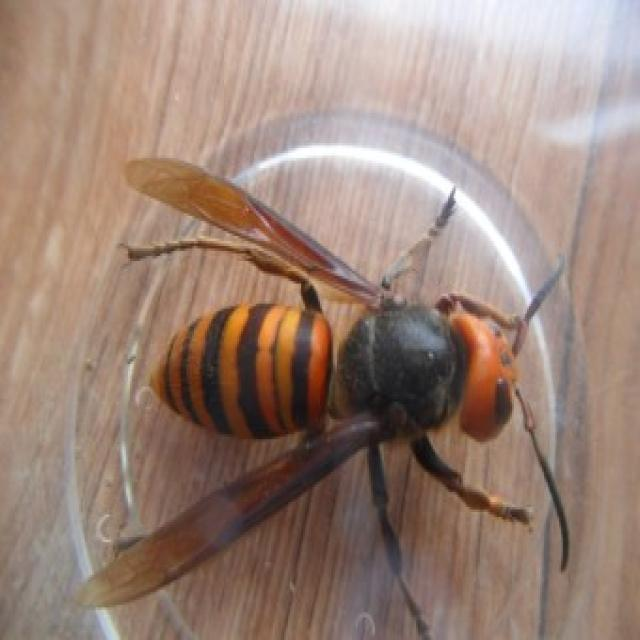Wasp: (115, 147, 572, 630)
